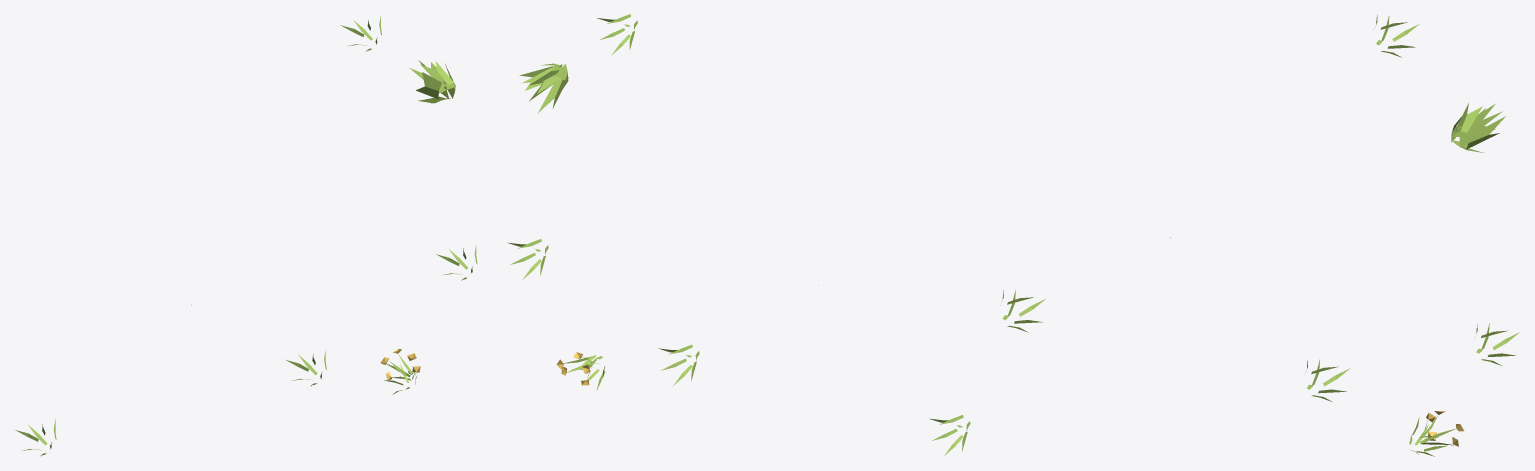
The model's file is FlyingLand_3.glb.
The picture shows the model from 3 angles, left to right: view 1: azimuth 30°, elevation 25°; view 2: azimuth 150°, elevation 25°; view 3: azimuth 330°, elevation 25°; orthographic projection. The views are drawn at different scales.
Visible parts, largest first — view 1: Grass_2_1__2_; view 2: Grass_2_1__2_; view 3: Grass_2_1__2_.
Boxes of the visible parts, bbox=[...] form: Grass_2_1__2_: bbox=[409, 60, 455, 103]; Grass_2_1__2_: bbox=[519, 63, 568, 113]; Grass_2_1__2_: bbox=[1451, 103, 1505, 152].
Bounding box in the file's own units: 3478 × 2739 × 420.
Materials: 13 (1 with a texture image).
